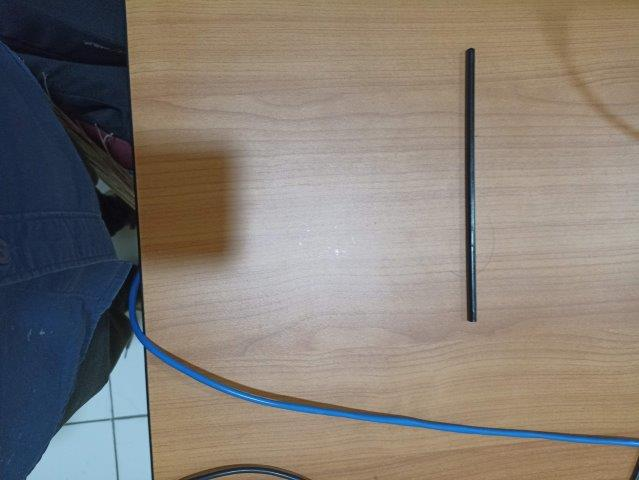sedotan: (465, 48, 477, 322)
